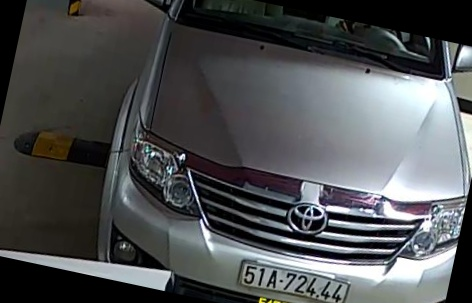plate: (239, 259, 353, 303)
